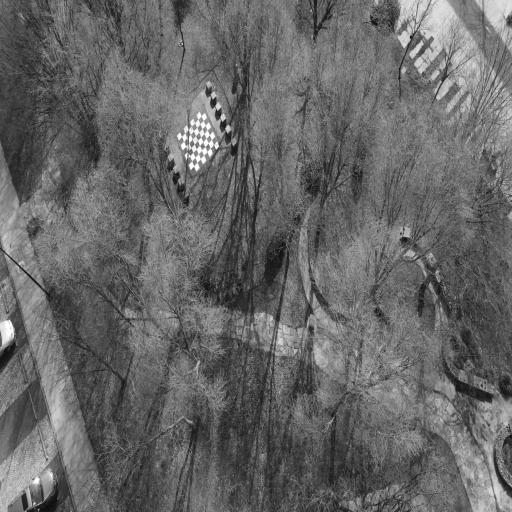person: (8, 468, 58, 511), (0, 320, 15, 356)
